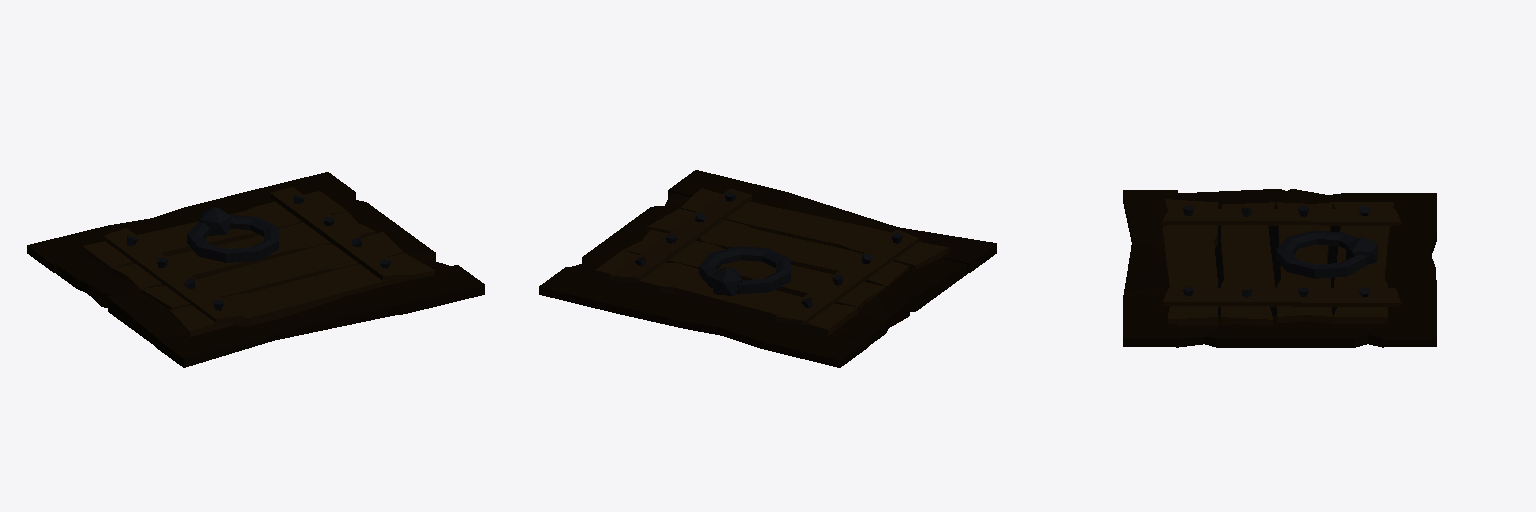
The model's file is Trapdoor.obj.
3 views of the same model, side by side, from view 1: azimuth 30°, elevation 25°; view 2: azimuth 150°, elevation 25°; view 3: azimuth 270°, elevation 25° (orthographic).
Parts seen in each view (by area): view 1: Trapdoor; view 2: Trapdoor; view 3: Trapdoor.
Part boxes in pixels (x1,y1,x2,y2): Trapdoor: (27,172,484,367); Trapdoor: (539,170,996,367); Trapdoor: (1123,189,1436,347).
Size of the model in its own units: 1.74 by 0.2151 by 1.57.